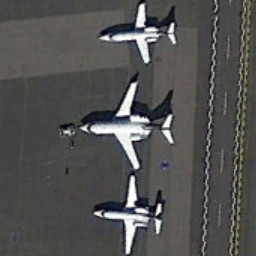Airplane: (76, 70, 183, 173), (85, 1, 189, 70), (87, 170, 168, 256)
